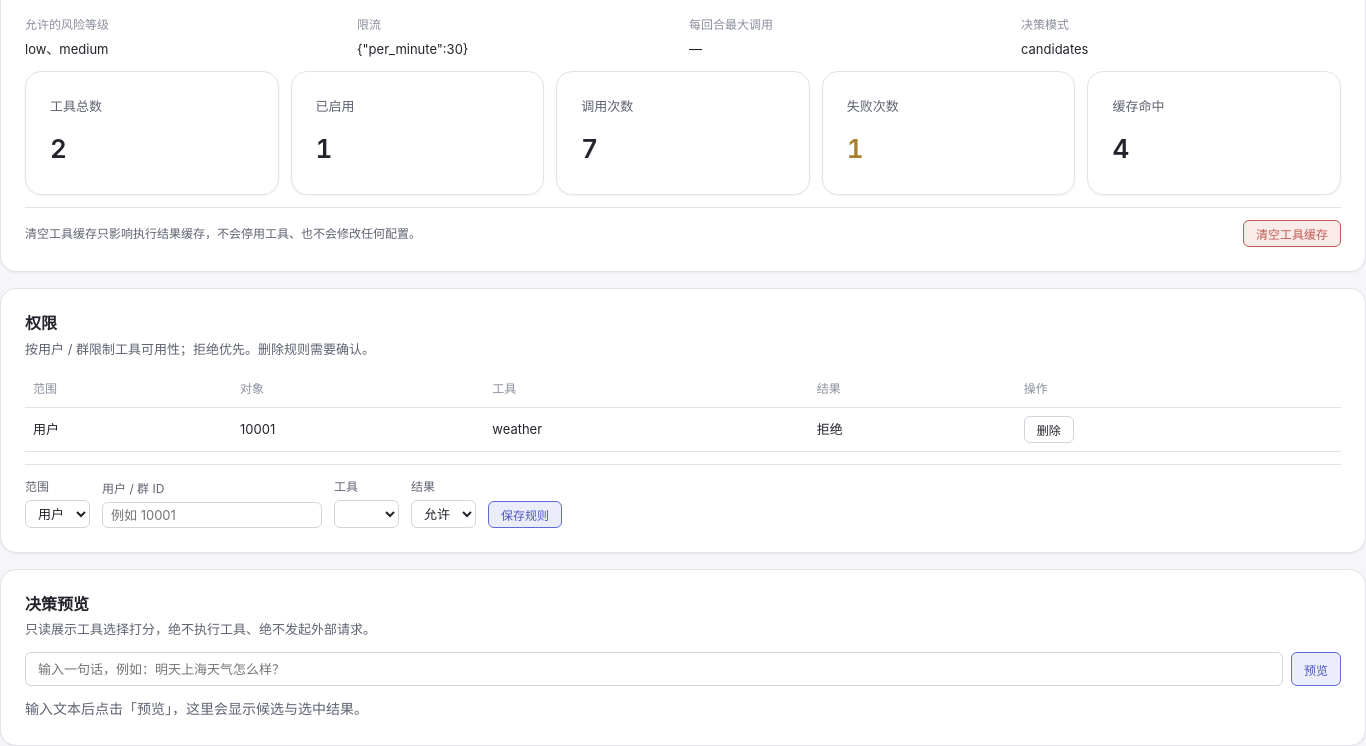
Tools 页 › previews tool selection read-only (GET only, never executes)
(page scrolled)
Type "查询天气" into the field with test id "decision-input".
click(654, 669); type("查询天气")  # box top-left (25, 652), bottom-right (1283, 686)
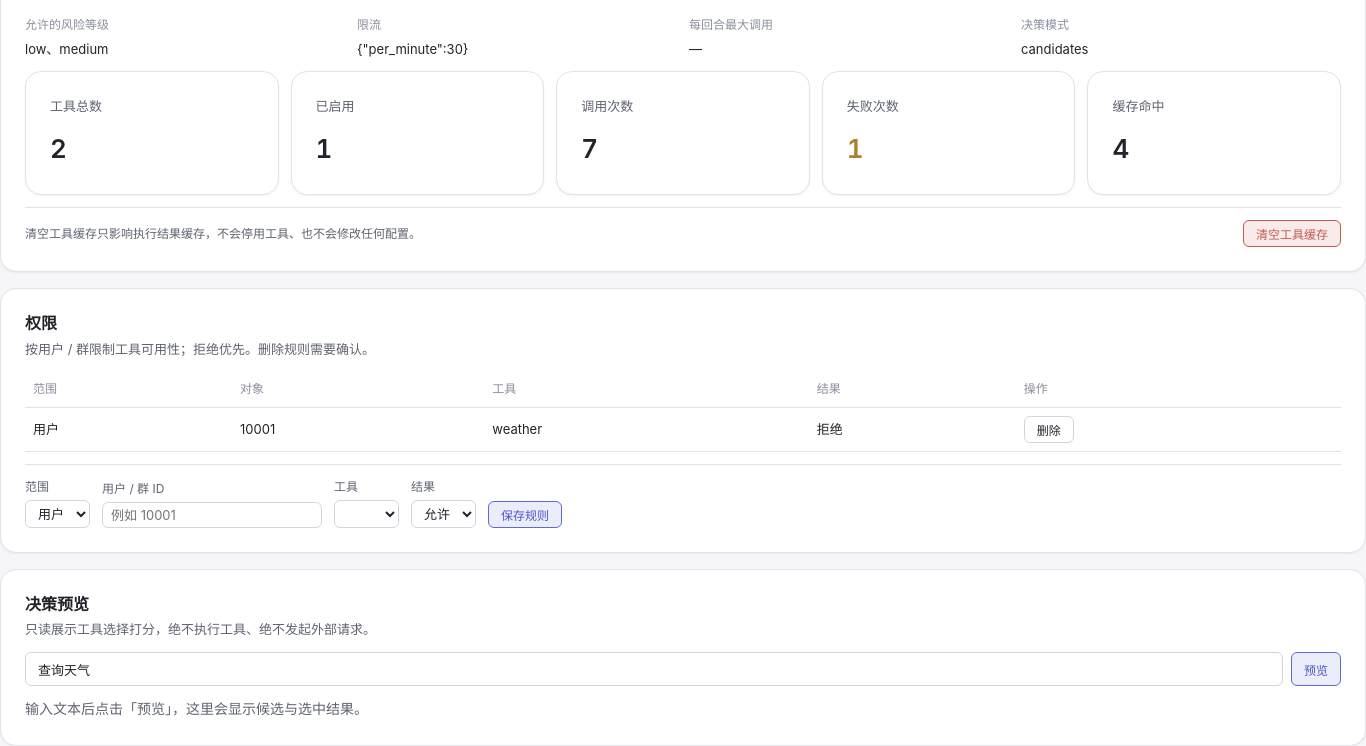
Submit the form with test id "decision-form", box top-left (25, 652), bottom-right (1341, 686)
(page scrolled)
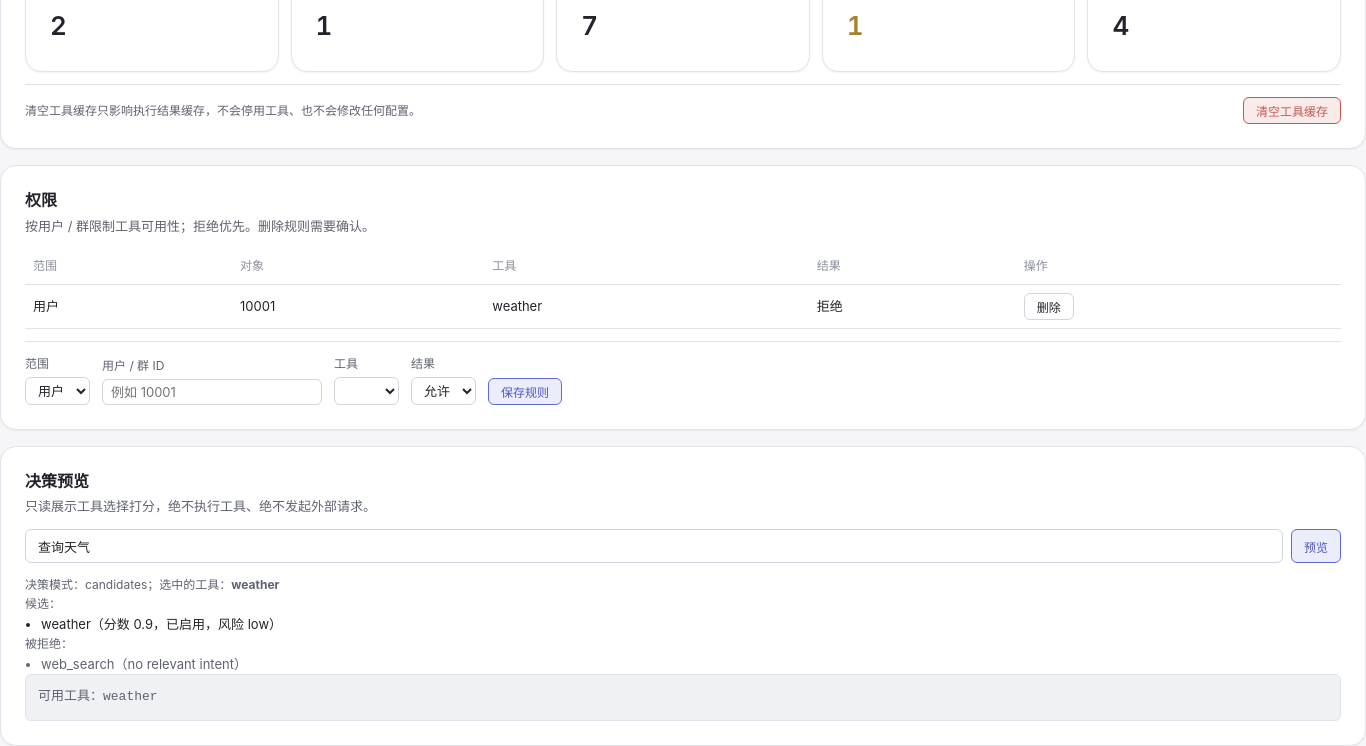
Expected: the element with test id "tools-decision" shows "绝不执行工具", top-left (25, 498), bottom-right (376, 514)
Now the text with test id "decision-selected" reads "weather", box top-left (231, 577), bottom-right (280, 592)
Now the list item with test id "decision-candidate" shows "weather", box top-left (41, 616), bottom-right (282, 632)
